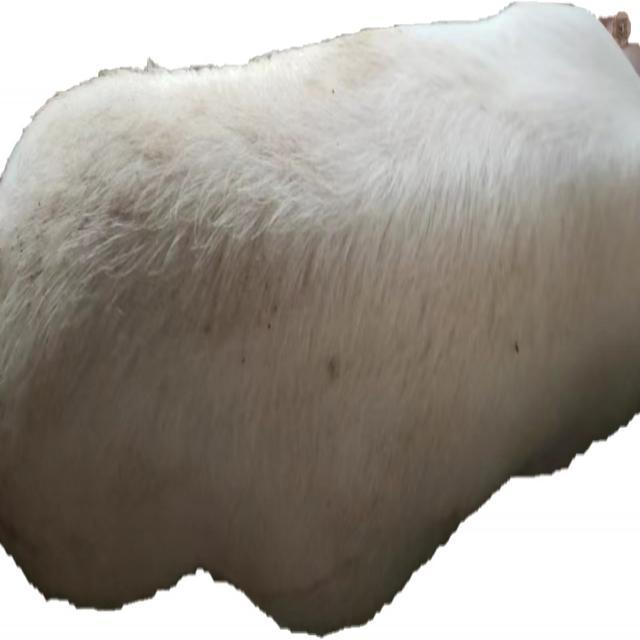pig: (0, 4, 640, 633)
